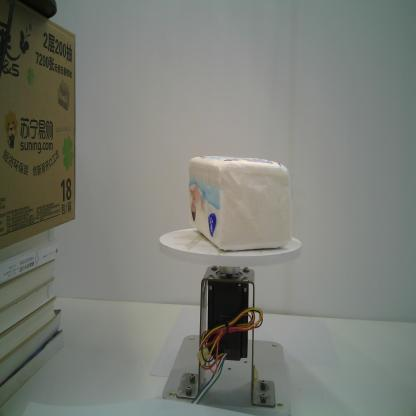Tissue: (188, 154, 290, 254)
